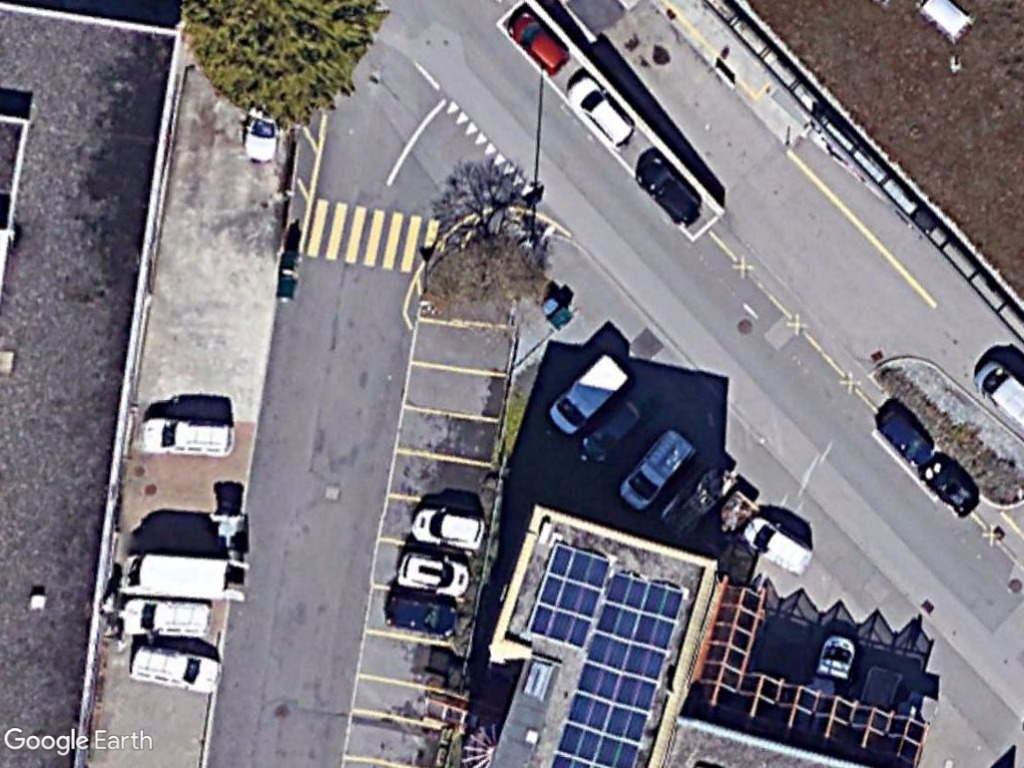car: (563, 71, 638, 153), (127, 640, 223, 699), (633, 153, 706, 228), (136, 412, 242, 460), (117, 594, 214, 640), (870, 398, 936, 465), (507, 7, 567, 78), (407, 502, 491, 552), (382, 591, 462, 639)
van: (614, 424, 699, 515), (546, 349, 629, 440), (117, 547, 232, 602), (738, 515, 816, 575)
